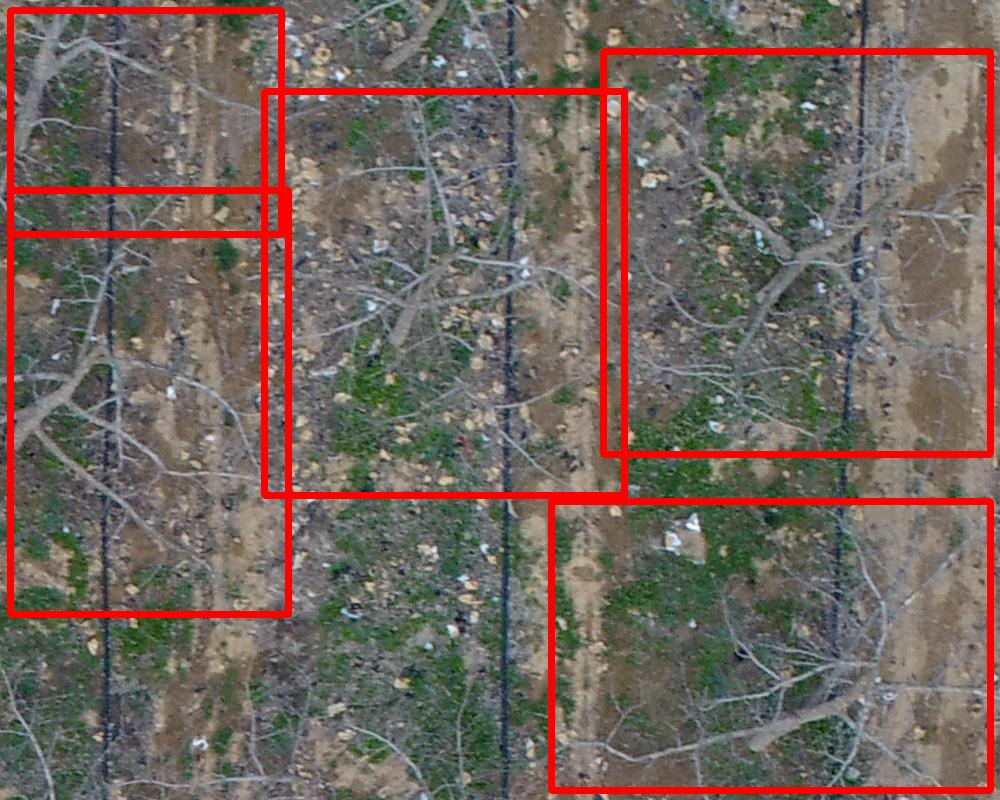apple: (603, 51, 990, 454), (264, 91, 624, 495), (551, 501, 990, 790), (10, 190, 288, 614), (10, 10, 281, 234)
